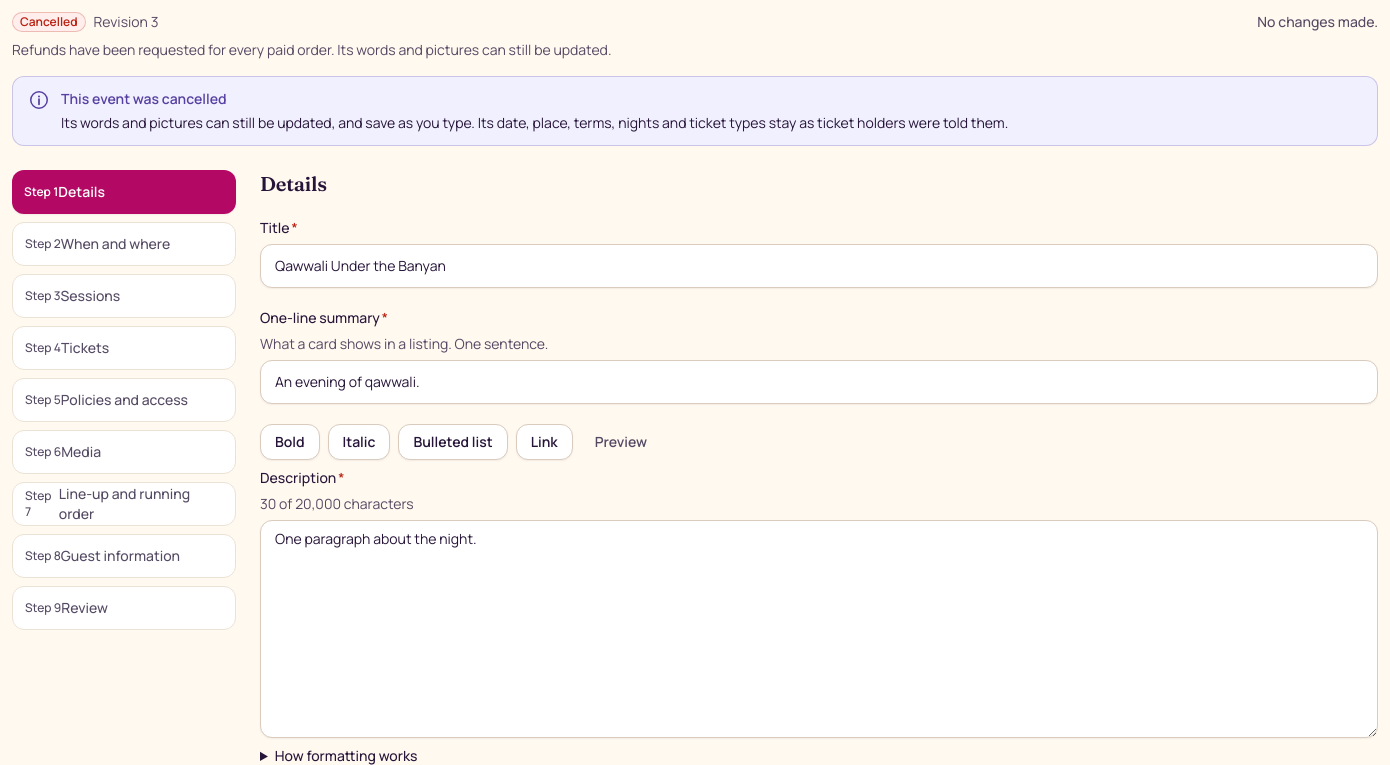
Test: a finished or cancelled event › autosaves the words of one that is CANCELLED and never sends a material field
Expected: the text "This event was cancelled" is shown, [61,89,226,108]
Expected: the text "can still be updated, and save as you type" is shown, [61,113,1008,132]
Type "!" into the field labelled "Title*" at (819, 266), box [260,244,1378,288]
Wait 2000 ms
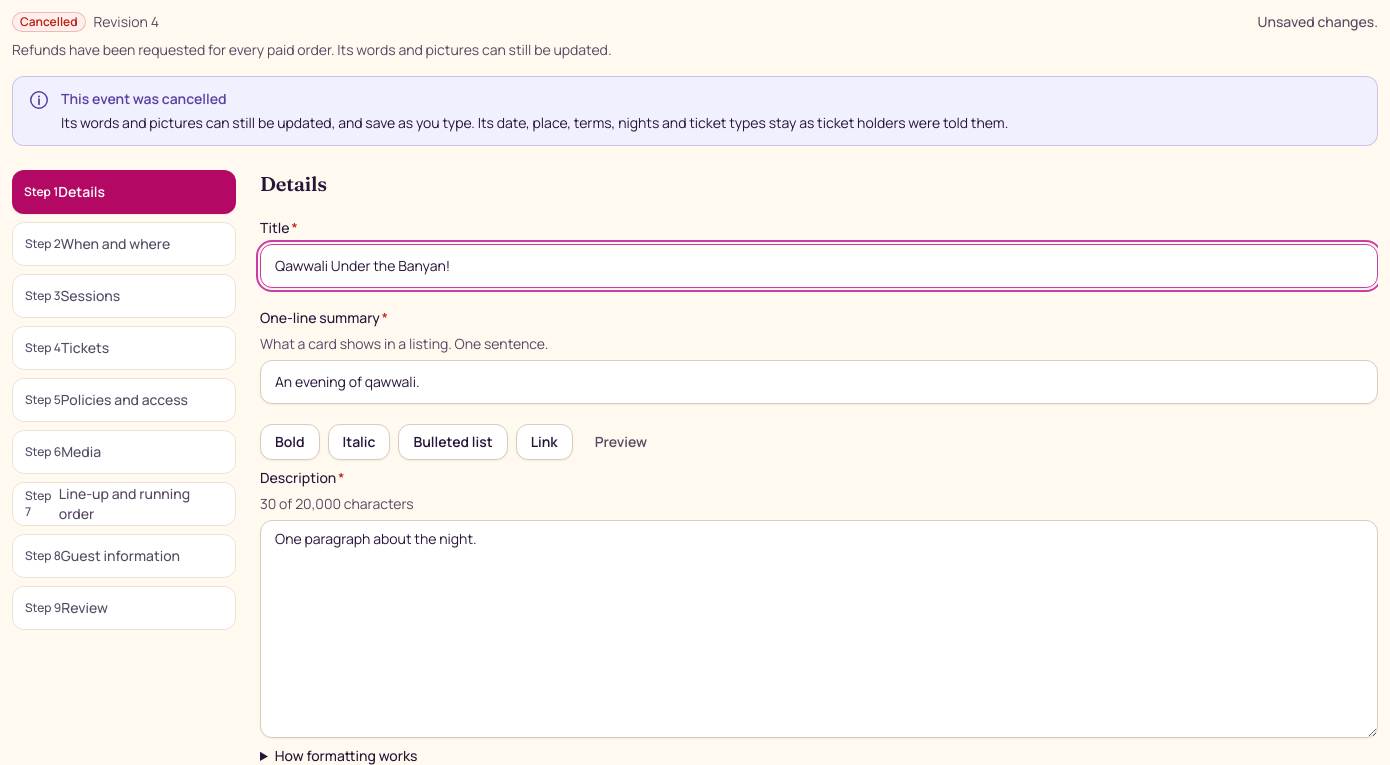
Click the button "Step 2 When and where" at (124, 244), box [12,222,236,266]
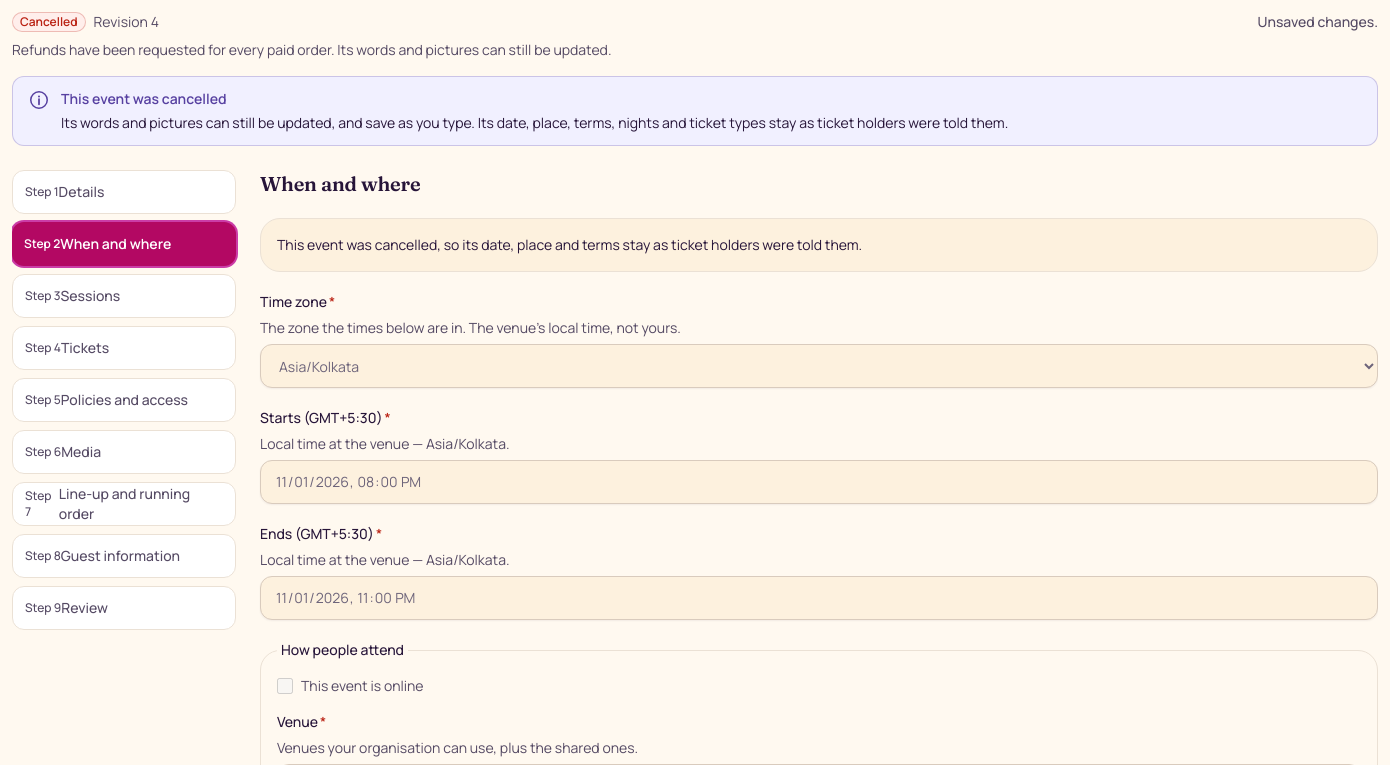
Expected: the field labelled "Starts (GMT+5:30)*" is disabled, [260,460,1378,504]
Expected: the text "so its date, place and terms stay as ticket holders were told them." is shown, [277,235,862,254]
